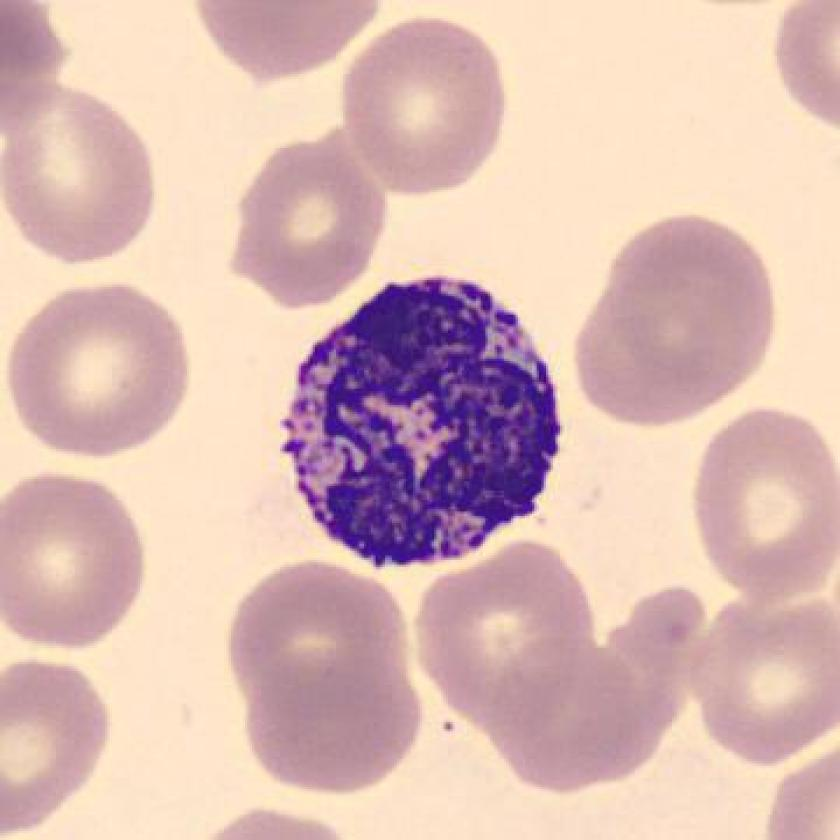basophil: (272, 270, 580, 580)
